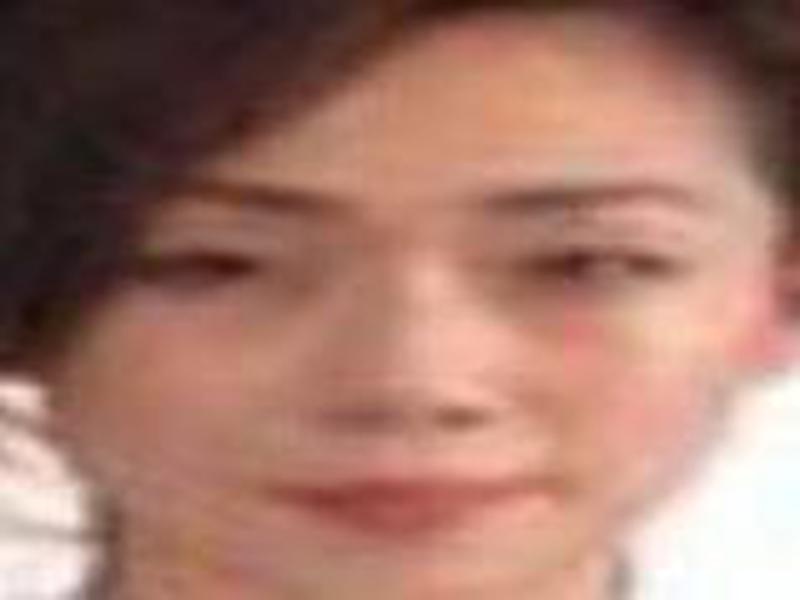without_mask: (48, 80, 763, 600)
